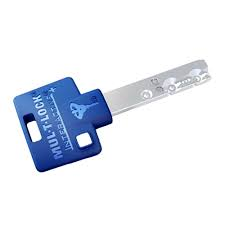kicharina: (8, 57, 213, 174)
